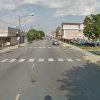Crosswalk: (2, 51, 97, 64)
